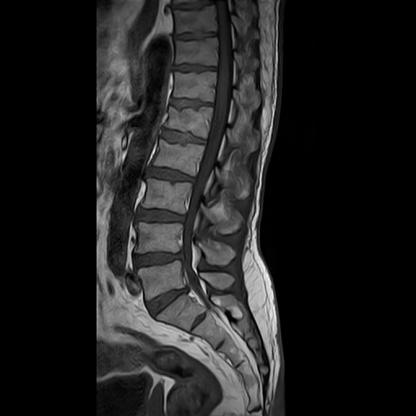Annular Disc Relaxationrotation: (158, 129, 209, 151), (149, 165, 194, 186)
Disc Bulgerotation: (132, 250, 185, 271), (145, 290, 192, 311)
